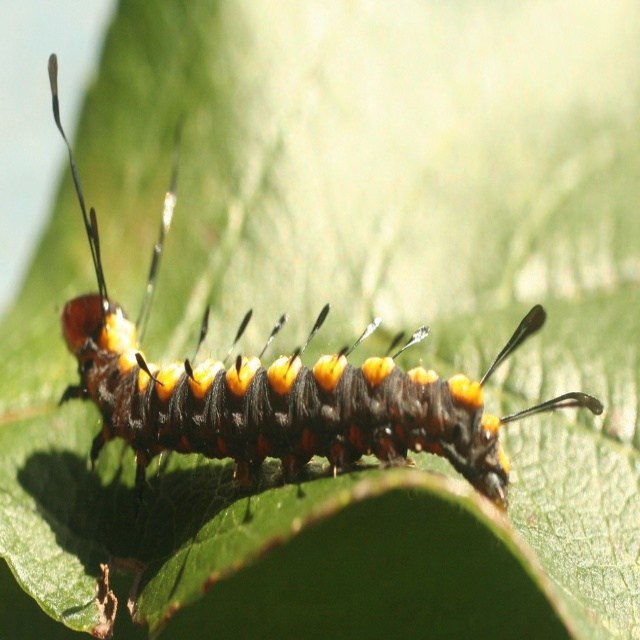Caterpillar: (45, 50, 603, 508)
